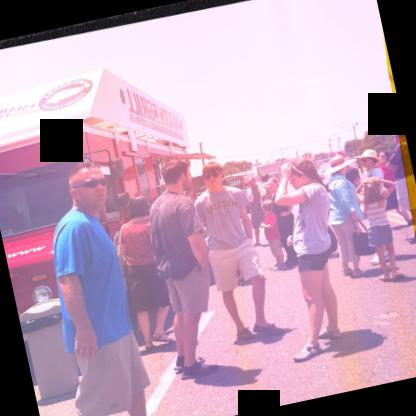handbag: (351, 219, 376, 255)
